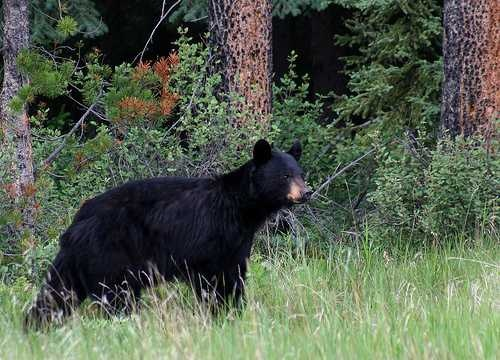bear: (188, 137, 316, 265)
